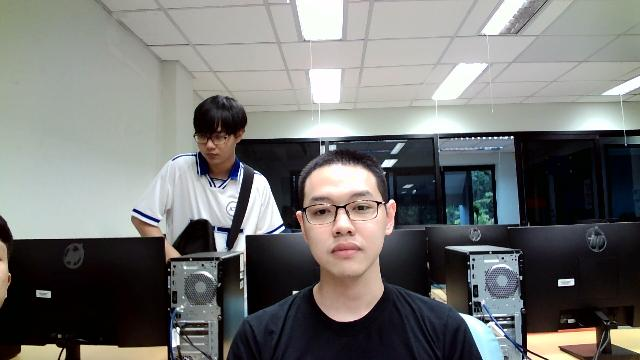fokus: (292, 151, 393, 275)
